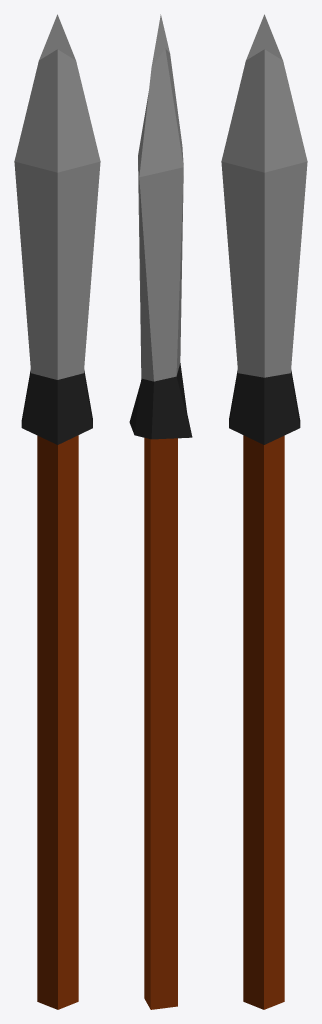
File: javeline.obj
3 views of the same model, side by side, from view 1: azimuth 90°, elevation 25°; view 2: azimuth 150°, elevation 25°; view 3: azimuth 270°, elevation 25° (orthographic).
Parts seen in each view (by area): view 1: javeline; view 2: javeline; view 3: javeline.
Part boxes in pixels (x1=…): javeline: x1=14, y1=14, x2=100, y2=1009; javeline: x1=129, y1=14, x2=192, y2=1009; javeline: x1=221, y1=14, x2=307, y2=1009.
Bounding box in the file's own units: 0.0512 × 0.7683 × 0.0607.
